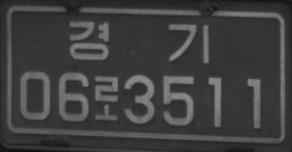0: (18, 69, 51, 122)
1: (242, 77, 268, 130), (202, 76, 228, 127)
3: (123, 73, 156, 126)
5: (161, 73, 195, 127)
6: (56, 70, 89, 124)
경기_D: (67, 18, 211, 65)
로: (92, 73, 120, 122)
